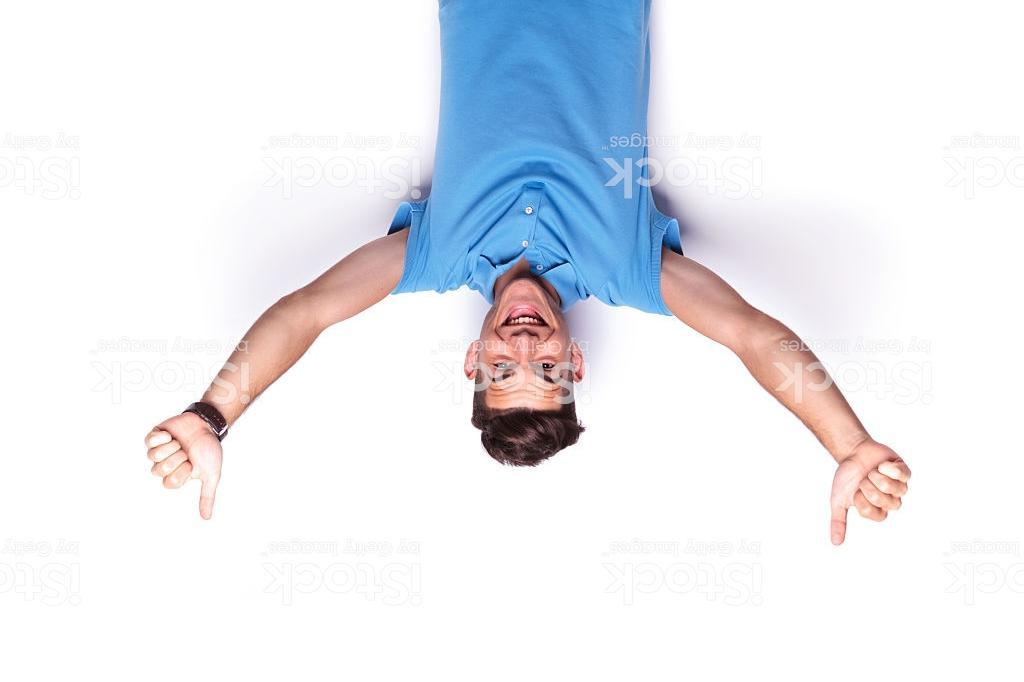thumbsdown: (828, 439, 912, 546), (144, 413, 224, 522)
